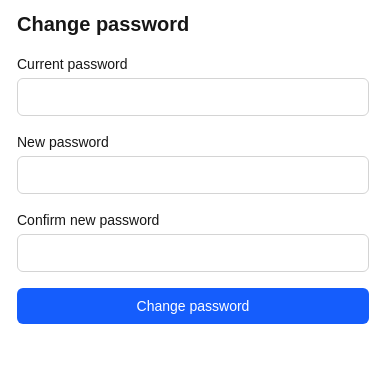
Test case: ChangePasswordFormView › sends the passwords to the API, shows success and clears the form
Type "old-password" into the password field labelled "Current password" at (193, 97), box top-left (17, 78), bottom-right (369, 116)
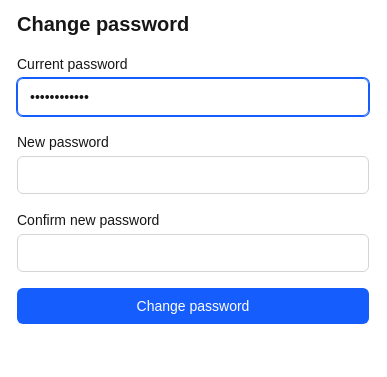
Type "new-password" into the password field labelled "New password" at (193, 175), box top-left (17, 156), bottom-right (369, 194)
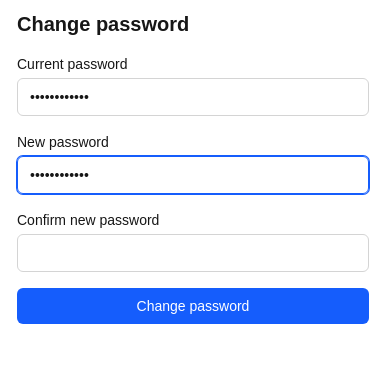
Type "new-password" into the password field labelled "Confirm new password" at (193, 253), box top-left (17, 234), bottom-right (369, 272)
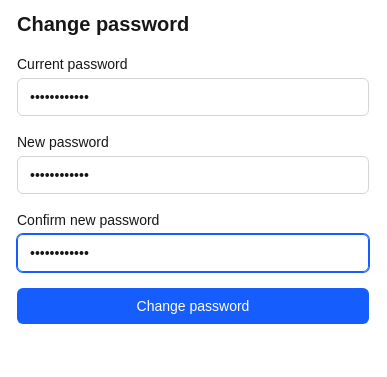
Click the button "Change password" at (193, 306), box top-left (17, 288), bottom-right (369, 324)
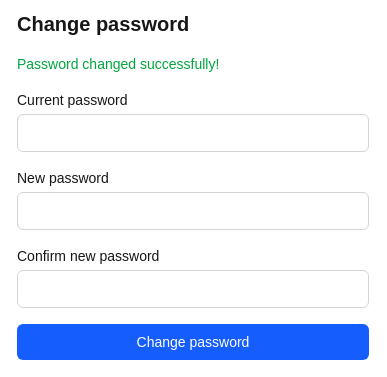
Expected: the text "Password changed successfully!" is shown, top-left (17, 56), bottom-right (219, 72)
Expected: the password field labelled "Current password" is empty, top-left (17, 114), bottom-right (369, 152)
Expected: the password field labelled "New password" is empty, top-left (17, 192), bottom-right (369, 230)
